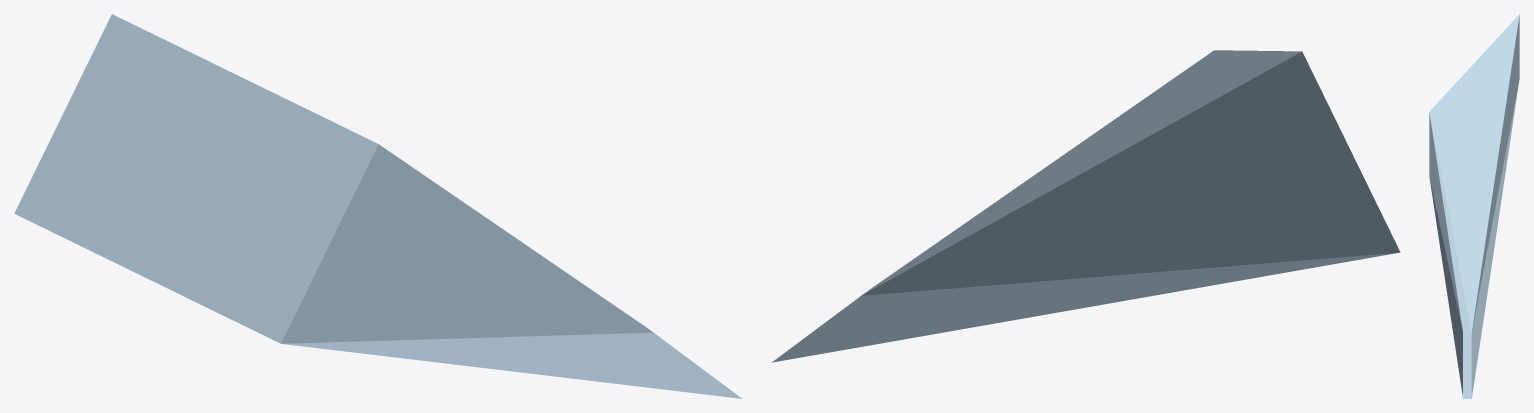
File: Palhaço cubismo left hand.fbx
3 views of the same model, side by side, from view 1: azimuth 30°, elevation 25°; view 2: azimuth 150°, elevation 25°; view 3: azimuth 270°, elevation 25° (orthographic). The views are drawn at different scales.
Visible parts, largest first — view 1: Cube.002; view 2: Cube.002; view 3: Cube.002.
Part boxes in pixels (<box>): Cube.002: <box>14,14,742,398</box>; Cube.002: <box>772,50,1400,362</box>; Cube.002: <box>1429,14,1519,398</box>.
Bounding box in the file's own units: 98.76 × 67.95 × 22.82.
